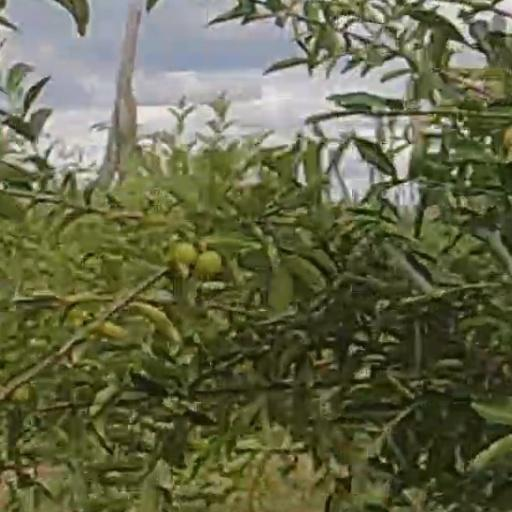acerola_verde: (198, 253, 222, 278), (175, 243, 195, 266)
